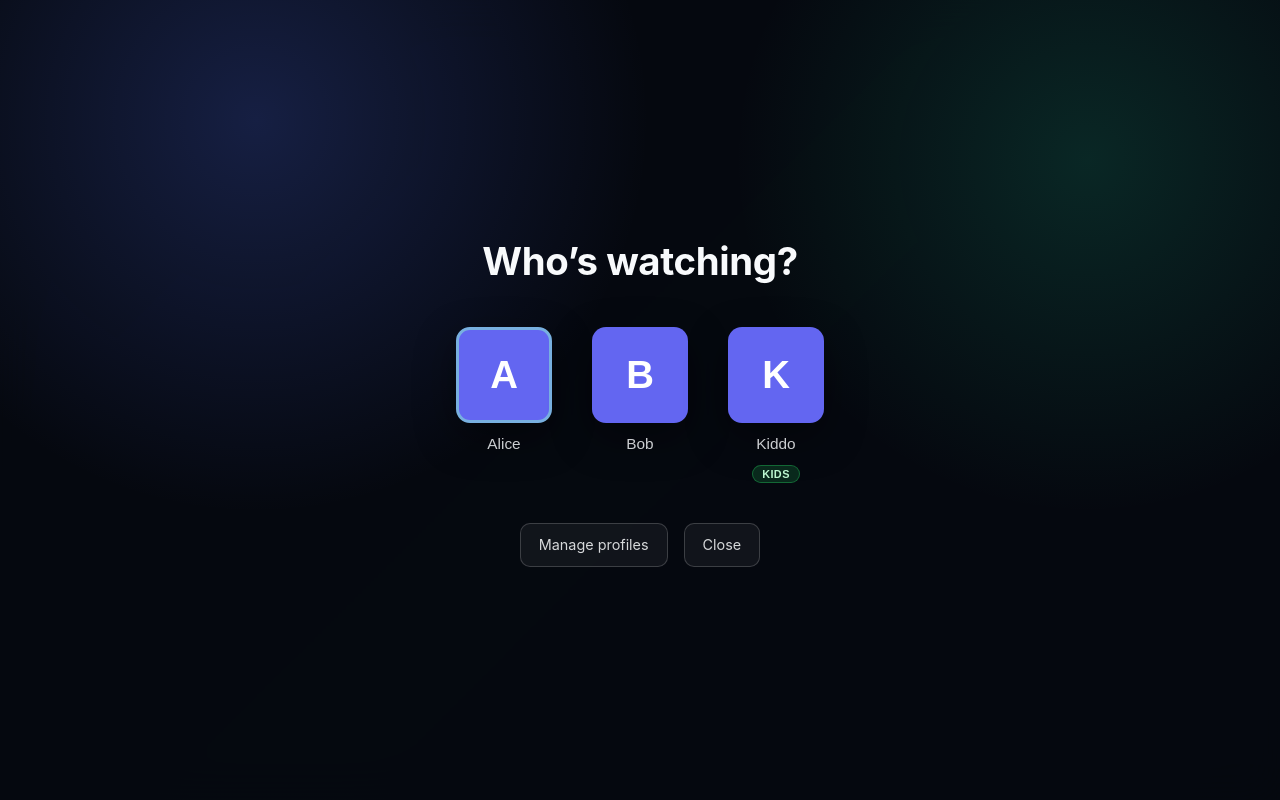
Test: ProfilePicker switch › surfaces an inline error when the switch fails (non-kid path)
Click the text "Bob": (640, 444) [626,435,654,453]
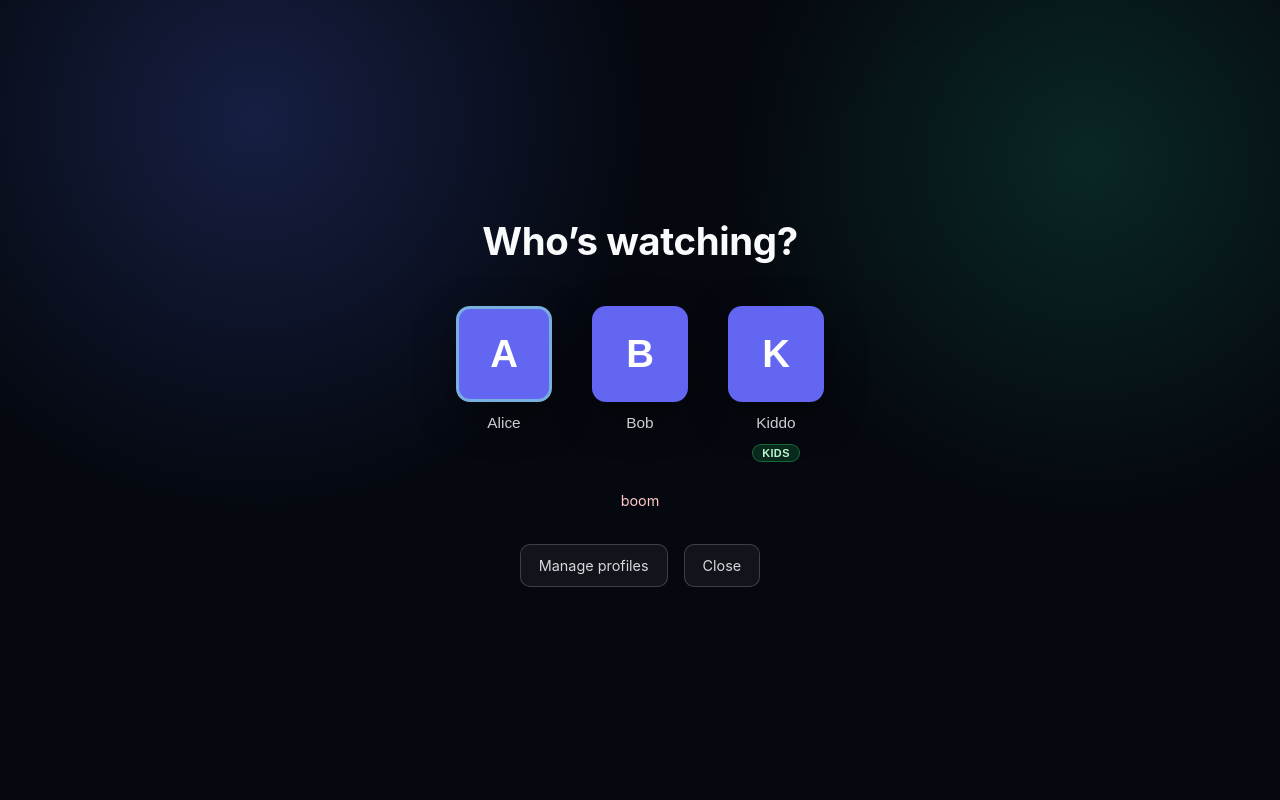
Expected: the text "boom" is shown, [621,492,659,509]
